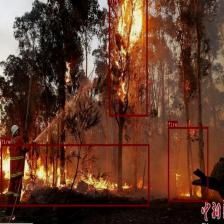fire: (0, 144, 149, 206), (109, 0, 147, 116), (168, 126, 208, 202)
